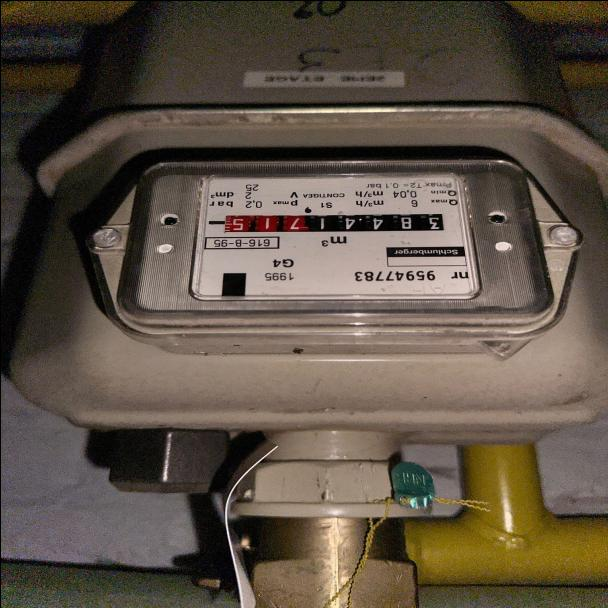1: (250, 210, 280, 235), (307, 210, 338, 234)
3: (421, 213, 445, 231)
4: (340, 210, 364, 232), (365, 212, 390, 230)
5: (221, 211, 250, 235)
7: (280, 212, 307, 236)
8: (393, 212, 419, 230)
cm: (218, 212, 308, 234)
counter: (309, 210, 449, 232)
